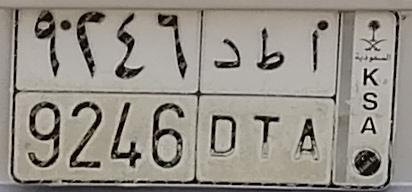2: (69, 10, 105, 171)
4: (110, 12, 146, 169)
6: (151, 12, 186, 169)
9: (26, 8, 61, 170)
A: (293, 28, 322, 162)
D: (209, 36, 243, 157)
T: (254, 27, 286, 159)
